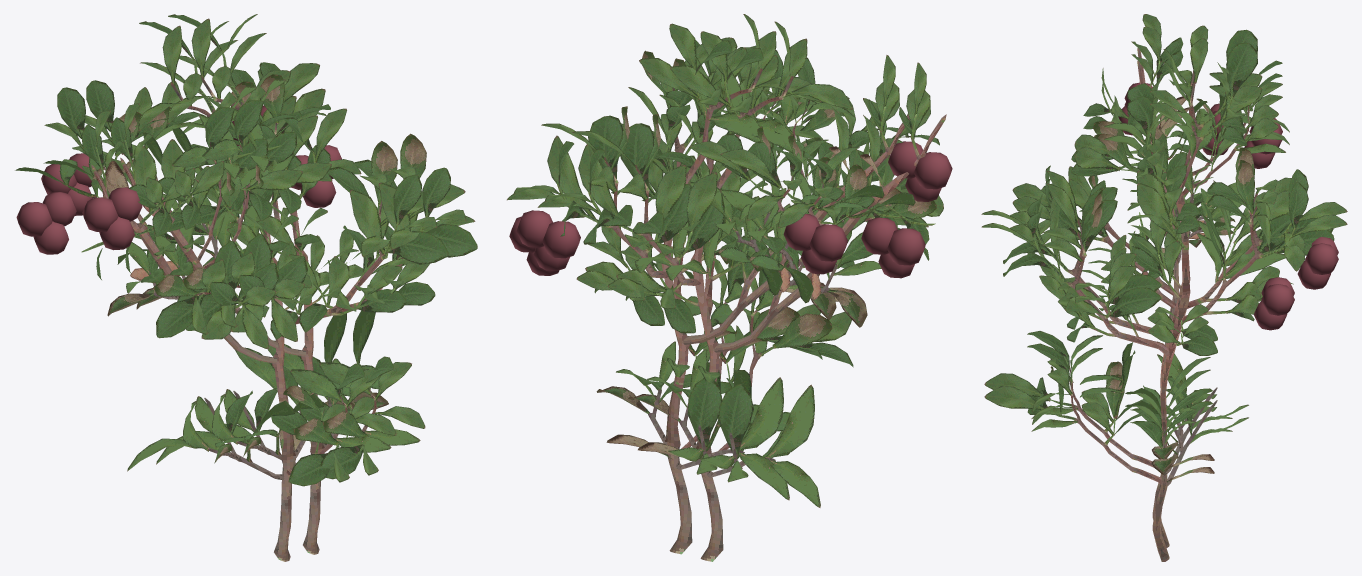
Rendered from natural-leafy-berries-quiet.glb.
3 views of the same model, side by side, from view 1: azimuth 30°, elevation 25°; view 2: azimuth 150°, elevation 25°; view 3: azimuth 270°, elevation 25° (orthographic). The views are drawn at different scales.
Visible parts, largest first — view 1: natural-leafy-berries-quiet runtime mesh; view 2: natural-leafy-berries-quiet runtime mesh; view 3: natural-leafy-berries-quiet runtime mesh.
Part boxes in pixels (x1,y1,x2,y2): natural-leafy-berries-quiet runtime mesh: [15, 14, 477, 561]; natural-leafy-berries-quiet runtime mesh: [507, 14, 952, 561]; natural-leafy-berries-quiet runtime mesh: [981, 14, 1347, 561].
Size of the model in its own units: 0.7644 by 1.05 by 0.7176.
Materials: 2 (1 with a texture image).
